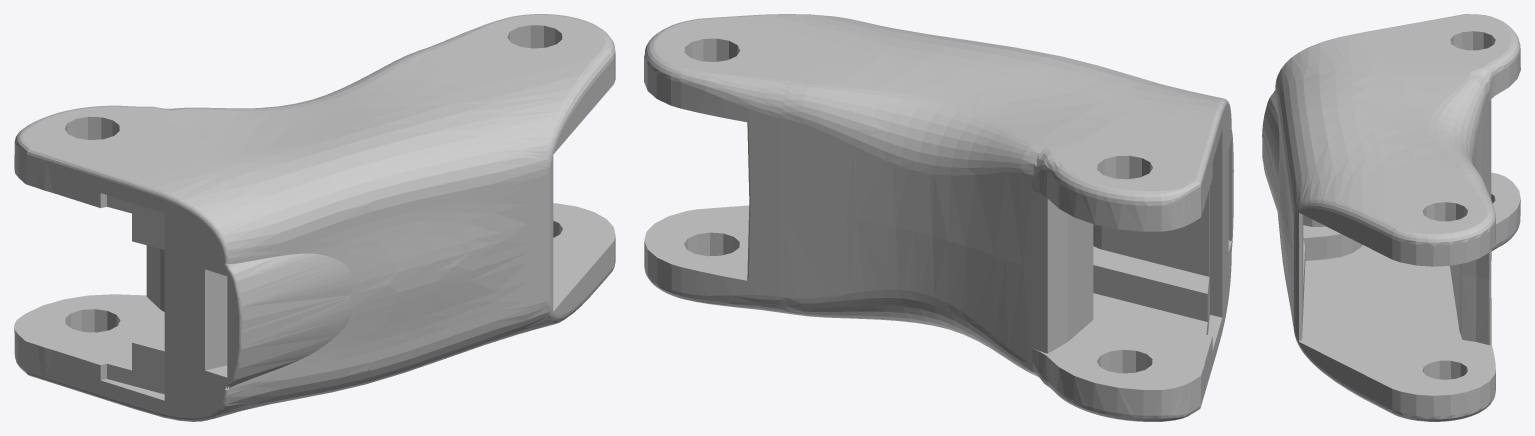
File: jaco_link_finger.dae
The picture shows the model from 3 angles, left to right: view 1: azimuth 30°, elevation 25°; view 2: azimuth 150°, elevation 25°; view 3: azimuth 270°, elevation 25°; orthographic projection. The views are drawn at different scales.
Parts seen in each view (by area): view 1: Component (×3); view 2: Component (×4); view 3: Component (×3).
Boxes of the visible parts, x1,y1,x2,y2 form: Component (×3): (14,14,615,421); Component (×4): (644,14,1233,421); Component (×3): (1262,14,1520,421).
Size of the model in its own units: 89.85 by 43.61 by 35.53.
Materials: 1 (1 with a texture image).
